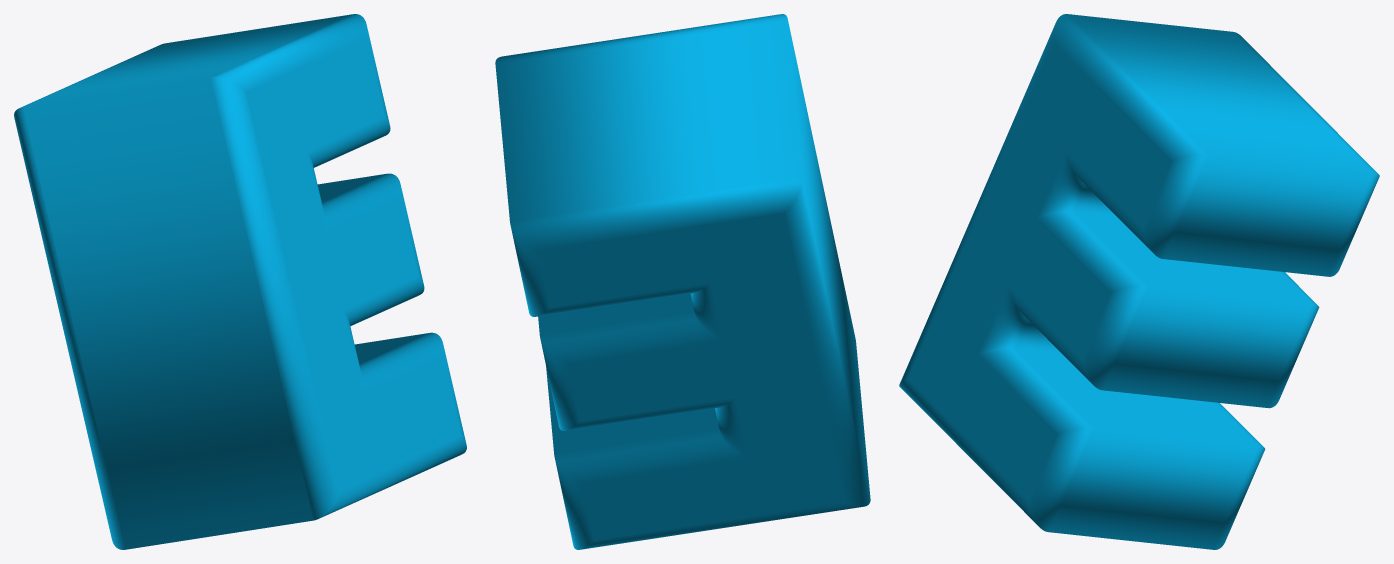
The picture shows the model from 3 angles, left to right: view 1: azimuth 30°, elevation 25°; view 2: azimuth 150°, elevation 25°; view 3: azimuth 270°, elevation 25°; orthographic projection. The views are drawn at different scales.
Visible parts, largest first — view 1: Текст.001; view 2: Текст.001; view 3: Текст.001.
Boxes of the visible parts, bbox=[...] form: Текст.001: bbox=[14, 14, 466, 549]; Текст.001: bbox=[495, 14, 870, 549]; Текст.001: bbox=[899, 14, 1379, 549].
Bounding box in the file's own units: 197 × 273 × 250.
